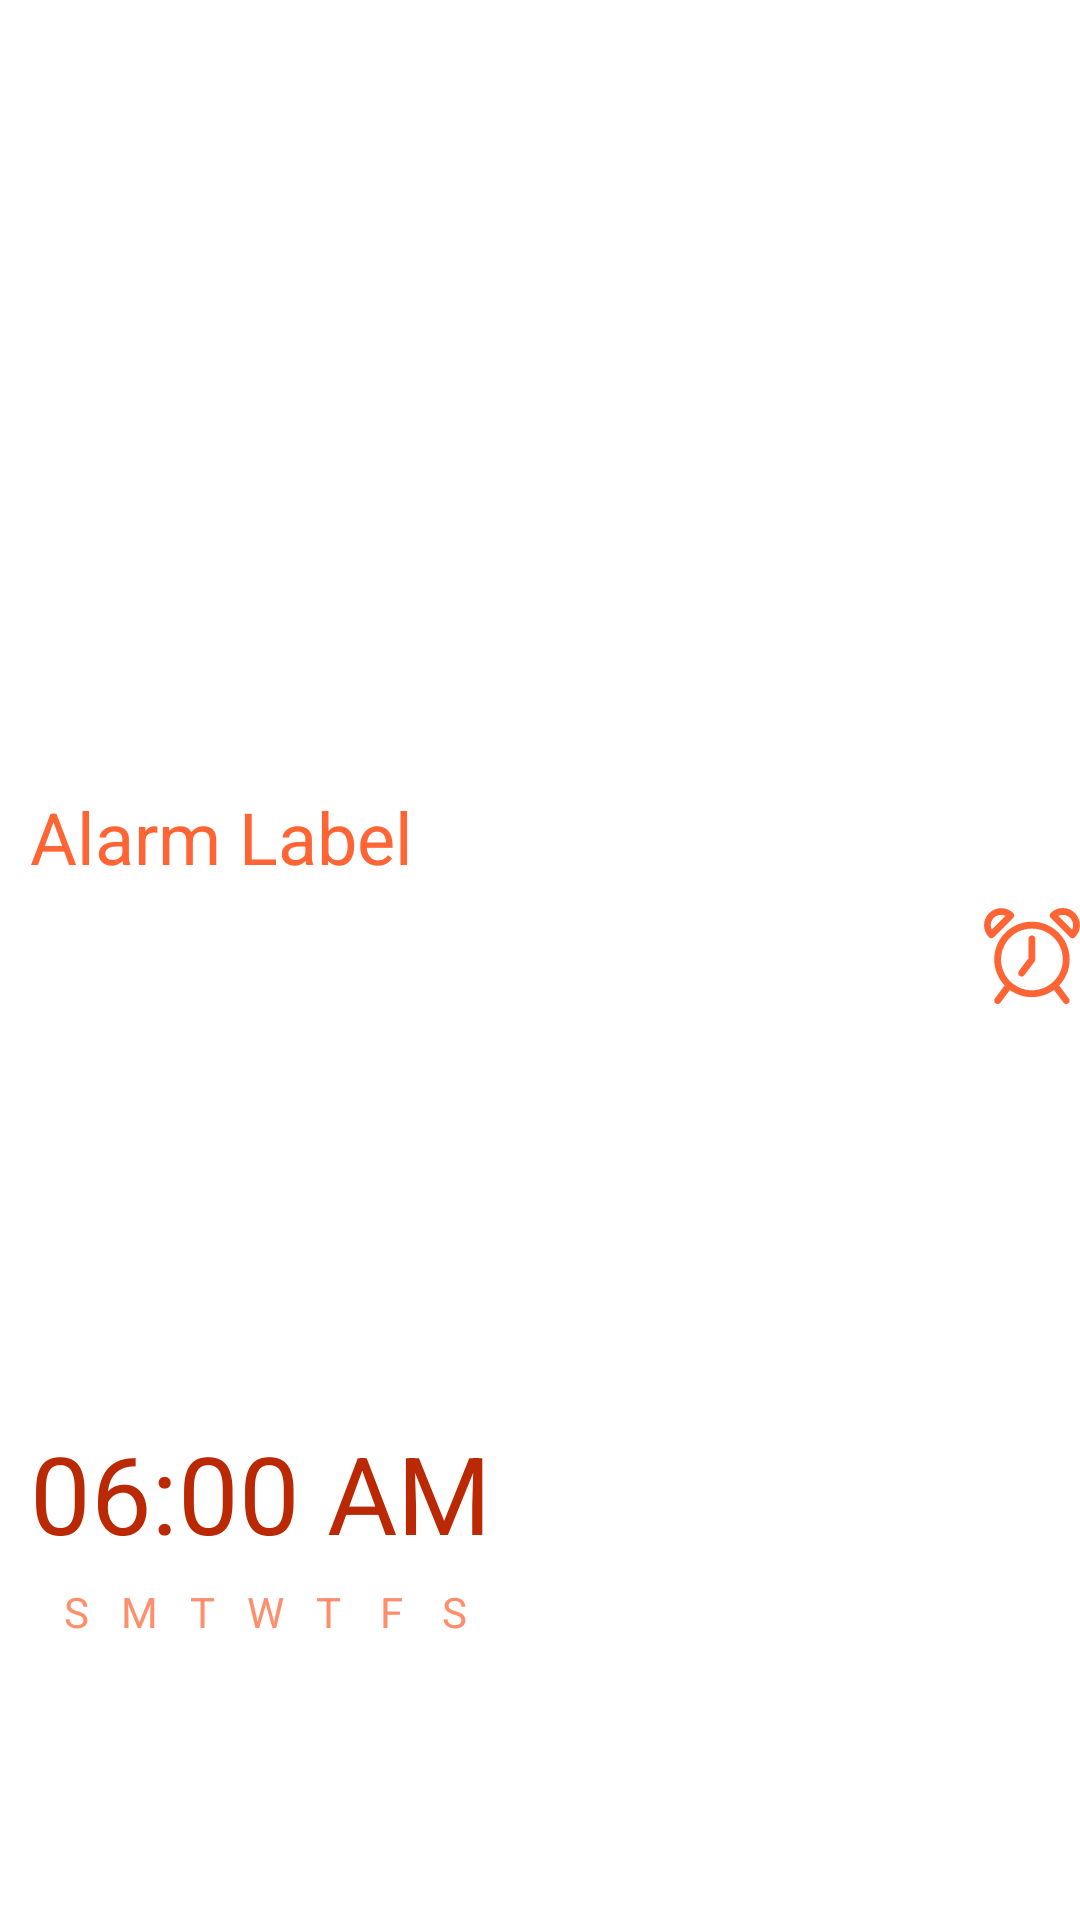

Named icons in this screenshot (1080×1920) and their bounding boxes, (x1, y1, x2, y2):
alarm on: (984, 908, 1080, 1004)
